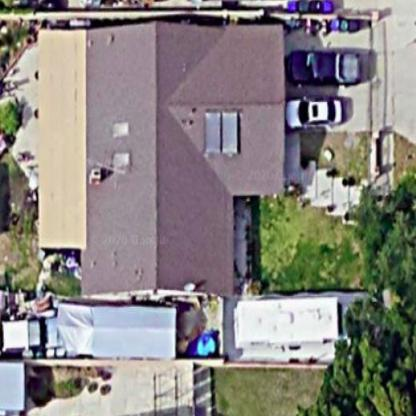car: (283, 41, 371, 89), (281, 95, 353, 130)
